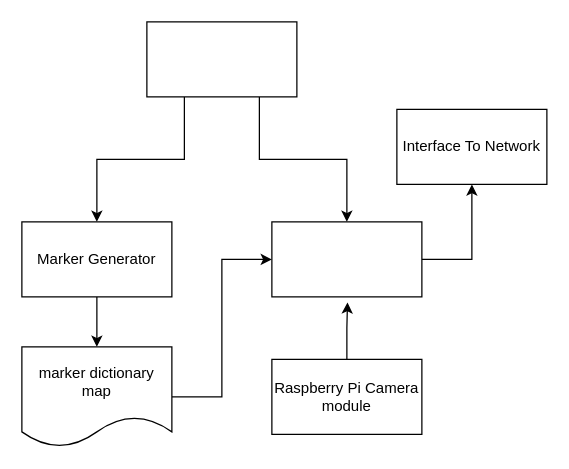
This 569x469 diagram has some shape labels left out. Each missing label, with the centre of its shape:
"Detector" belongs at (x=346, y=259).
"MarkerDict Class" belongs at (x=221, y=59).
